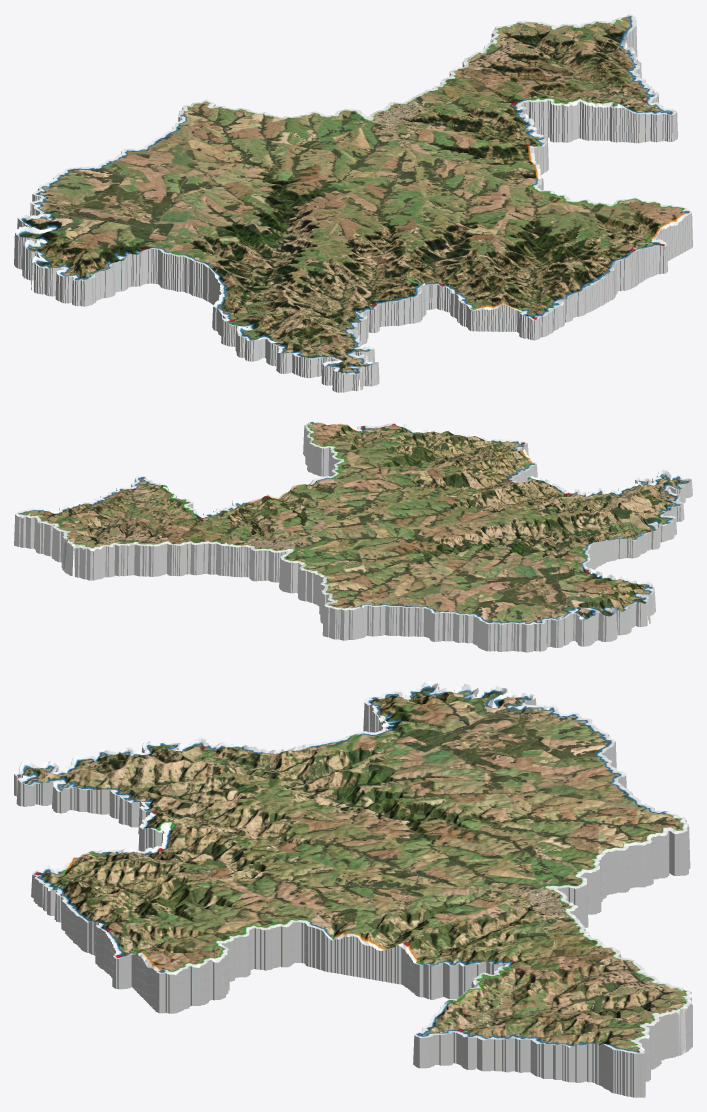
The picture shows the model from 3 angles, top to bottom: view 1: azimuth 30°, elevation 25°; view 2: azimuth 150°, elevation 25°; view 3: azimuth 270°, elevation 25°; orthographic projection. The views are drawn at different scales.
Bounding box in the file's own units: 1 × 0.0534 × 0.7491.
1 material, 1 textured.
